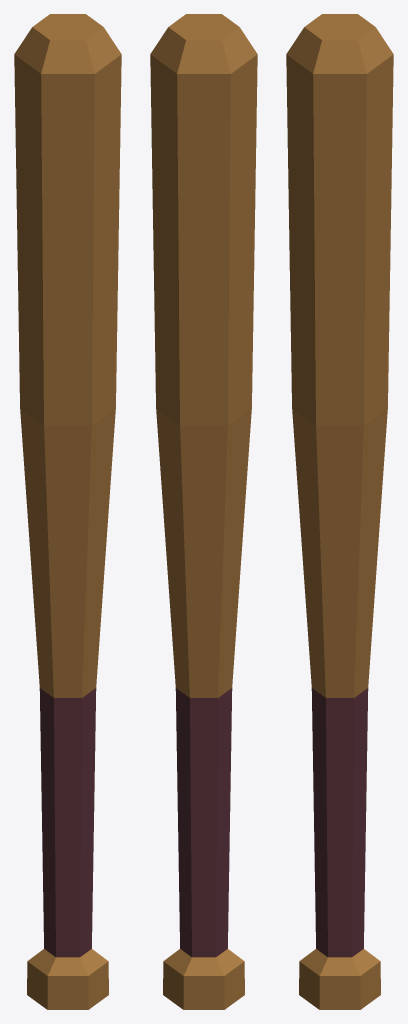
Rendered from baseball-bat.fbx.
3 views of the same model, side by side, from view 1: azimuth 90°, elevation 25°; view 2: azimuth 150°, elevation 25°; view 3: azimuth 270°, elevation 25° (orthographic).
Visible parts, largest first — view 1: baseball-bat; view 2: baseball-bat; view 3: baseball-bat.
Boxes of the visible parts, x1,y1,x2,y2 form: baseball-bat: (14,14,121,1009); baseball-bat: (150,14,257,1009); baseball-bat: (286,14,393,1009).
Size of the model in its own units: 0.0707 by 0.812 by 0.0817.
